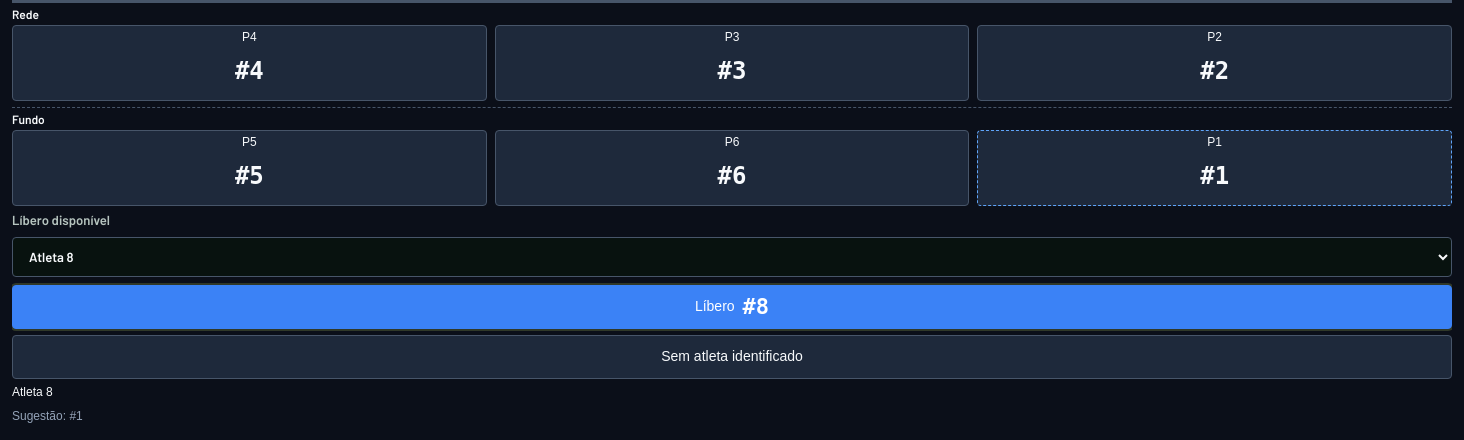
it: PlayerQuickPicker › keeps one libero button when the roster has two, without losing the second athlete
Check: the number of buttons named "Líbero ·" is 1, box [12,285,1452,329]
Select "Atleta 7" in the dropdown at (732, 257), box [12,237,1452,277]
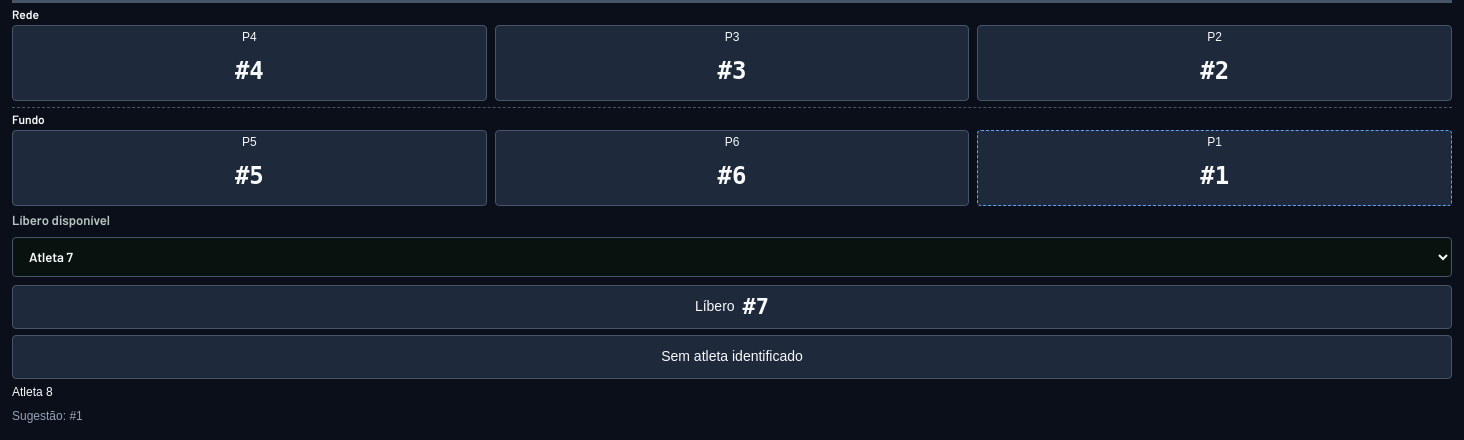
Check: the button with aria-label "Líbero · Atleta 7" is shown, box [12,285,1452,329]
